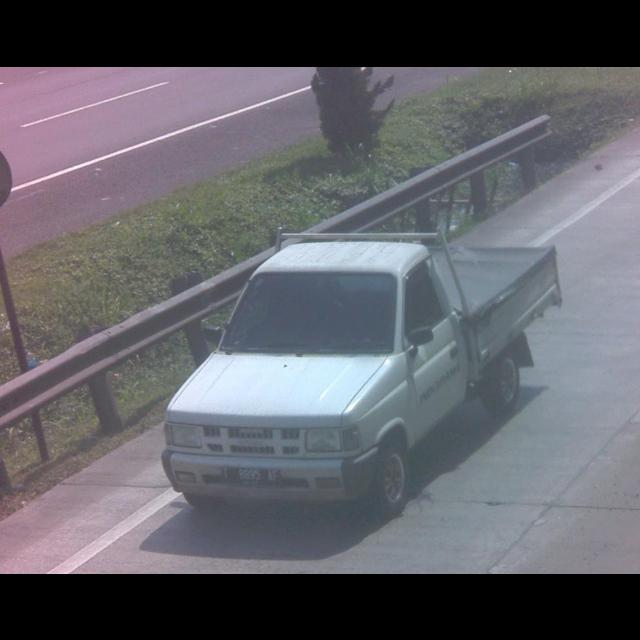plate: (219, 464, 284, 488)
